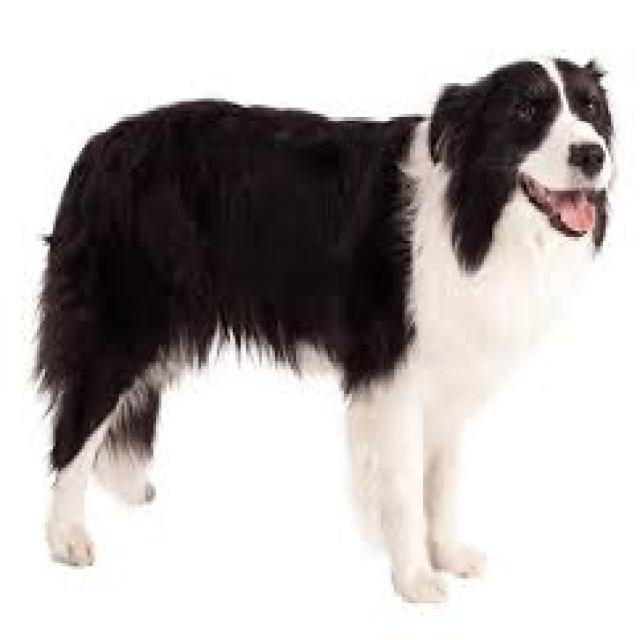BORDER_COLLIE: (17, 50, 616, 613)
